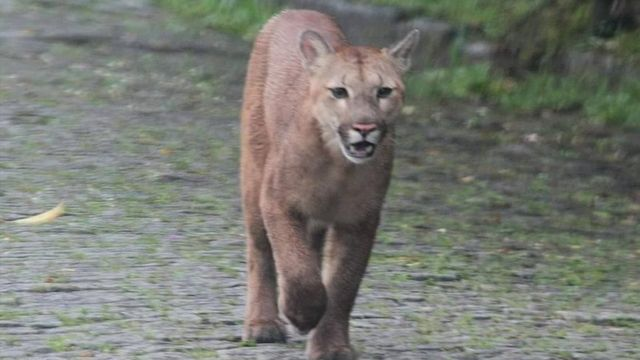OncaParda: (232, 4, 424, 359)
